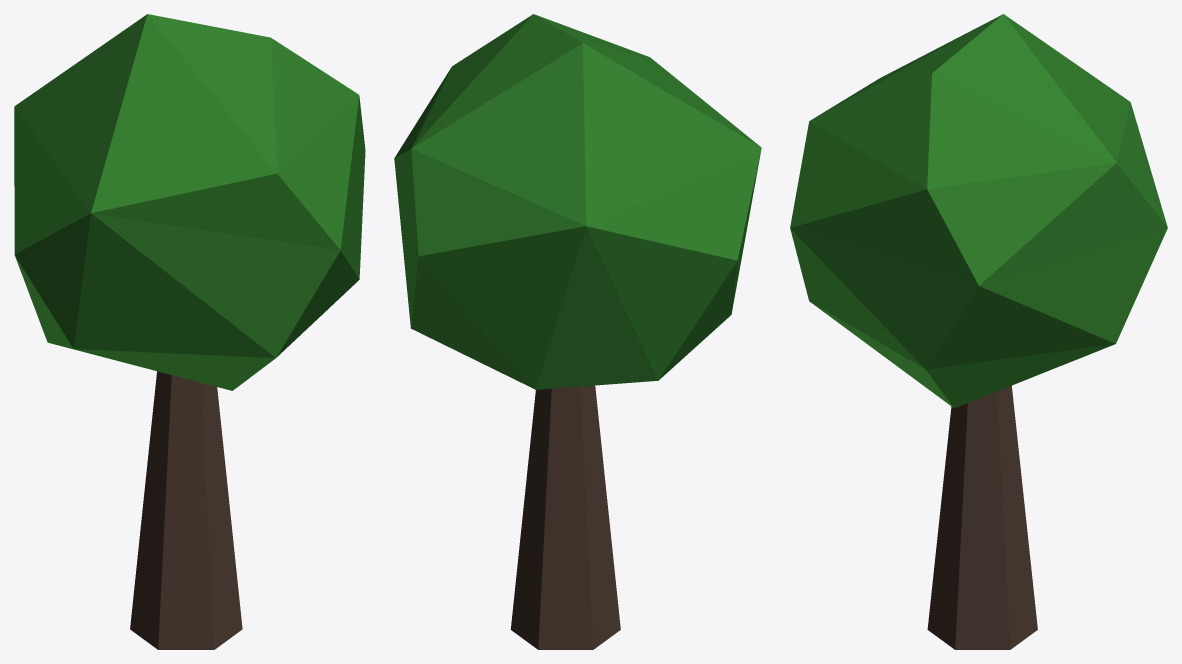
The model's file is deciduous1.fbx.
3 views of the same model, side by side, from view 1: azimuth 30°, elevation 25°; view 2: azimuth 150°, elevation 25°; view 3: azimuth 270°, elevation 25° (orthographic). The views are drawn at different scales.
Visible parts, largest first — view 1: tree; view 2: tree; view 3: tree.
Boxes of the visible parts, x1,y1,x2,y2 form: tree: [14, 14, 365, 649]; tree: [394, 14, 761, 649]; tree: [790, 14, 1167, 649].
Size of the model in its own units: 209 by 349 by 199.
